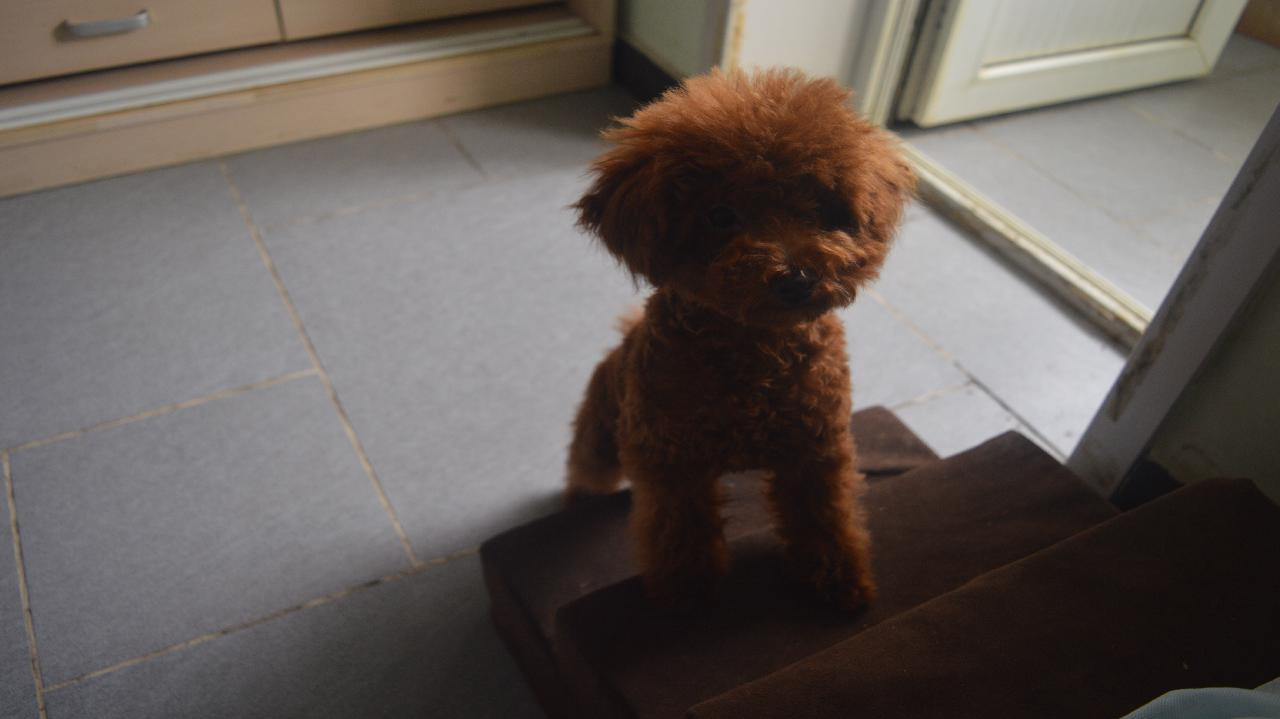coin: (577, 57, 913, 621)
